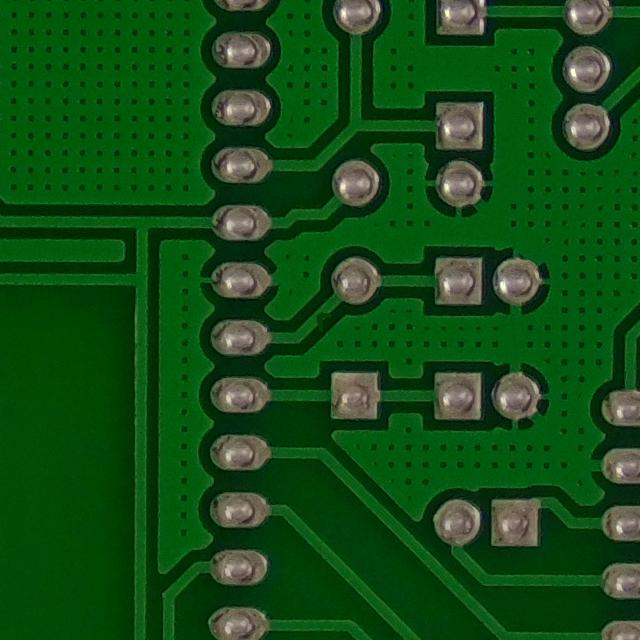mouse_bite: (304, 304, 336, 337)
